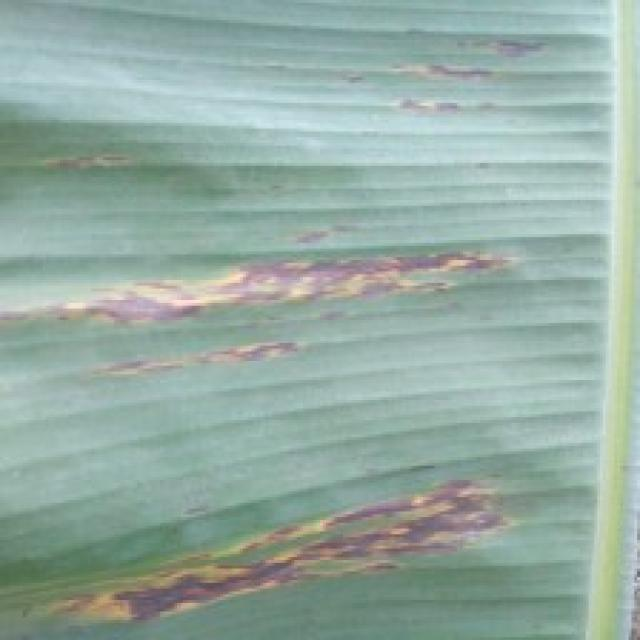Early_leaf_spot: (34, 228, 529, 403), (73, 470, 501, 640), (368, 19, 562, 145), (33, 126, 151, 194)
